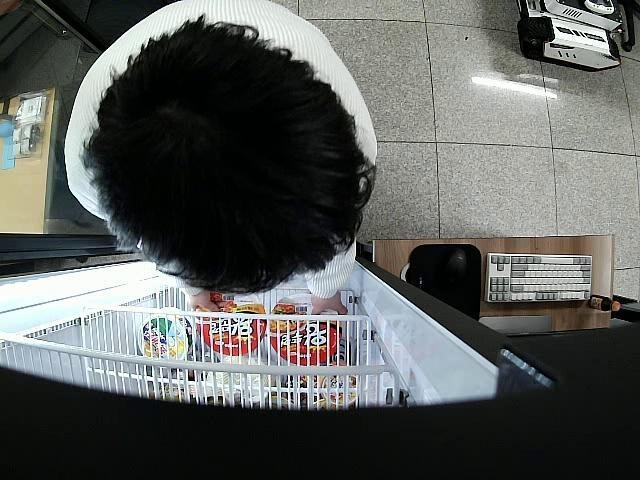10_wangTtukkeong: (193, 286, 266, 356), (272, 295, 340, 364)
